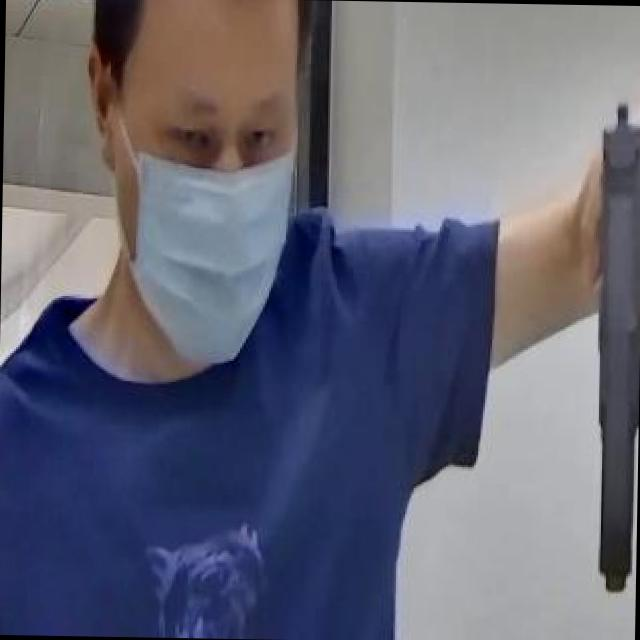Guns: (553, 76, 640, 617)
